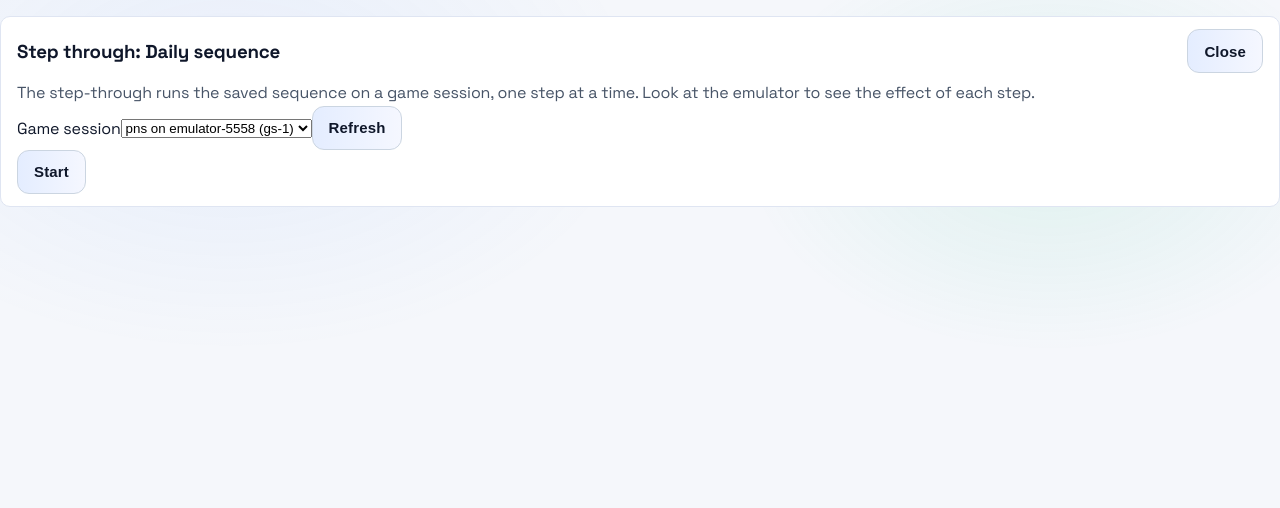
Scenario: StepThroughPanel › runs the next step and shows the status after the step ends
This screenshot has width=1280, height=508.
Click the button "Start" at coordinates (51, 172), box left=17, top=150, right=86, bottom=194
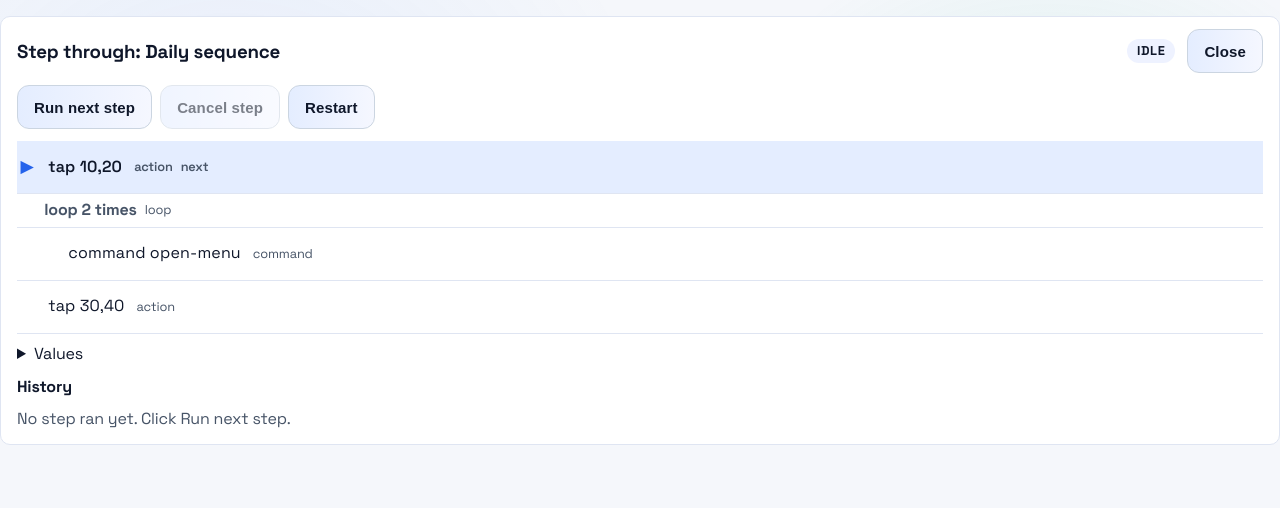
expect the list named "Steps" is shown: met, box left=17, top=141, right=1263, bottom=334
Click the button "Run next step" at coordinates (85, 107), box left=17, top=85, right=152, bottom=129
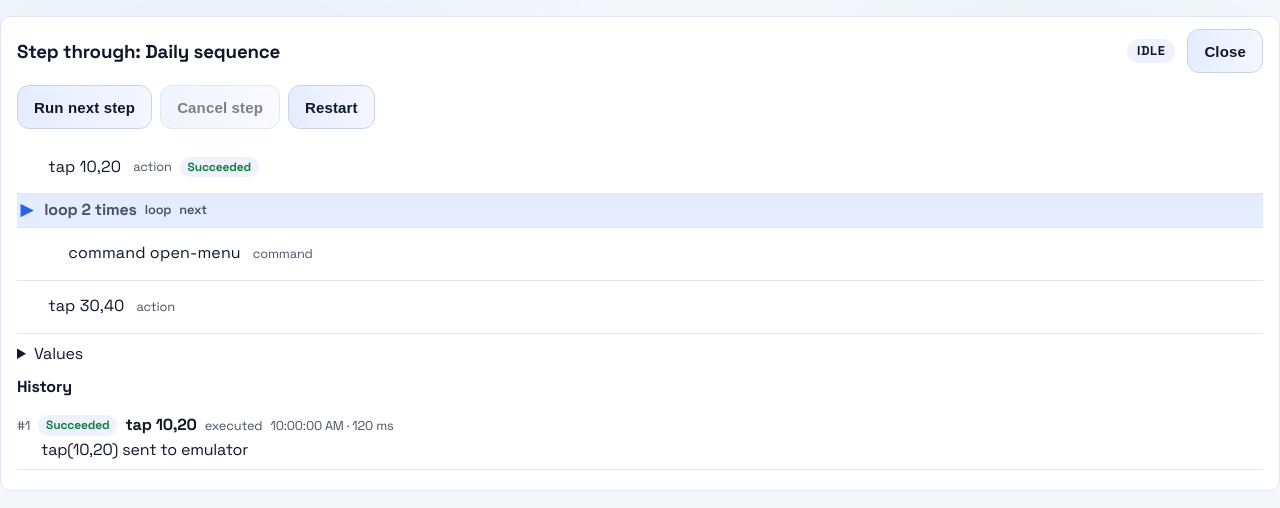
expect the text with test id "step-through-state" reads "idle": met, box left=1137, top=42, right=1165, bottom=59
expect the text "tap(10,20) sent to emulator" is shown: met, box left=41, top=439, right=248, bottom=460
expect the list named "History" is shown: met, box left=17, top=407, right=1263, bottom=470
